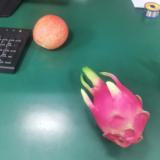apple: (33, 15, 69, 50)
pitaya: (79, 71, 149, 148)
